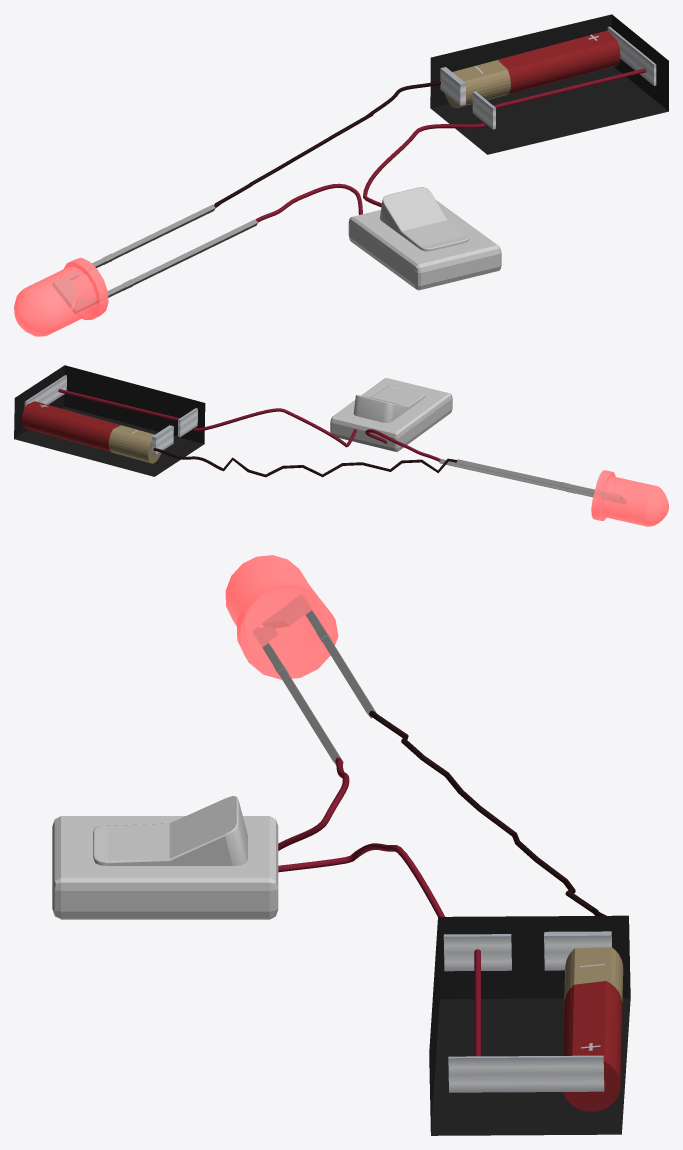
File: circuitWITHSWITCH(brightness).glb
3 renders of one model, top to bottom at view 1: azimuth 30°, elevation 25°; view 2: azimuth 150°, elevation 25°; view 3: azimuth 270°, elevation 25°, orthographic. The views are drawn at different scales.
Visible parts, largest first — view 1: BézierCurve.008; view 2: BézierCurve.008; view 3: BézierCurve.008.
Boxes of the visible parts, x1=… form: BézierCurve.008: x1=14, y1=14, x2=668, y2=336; BézierCurve.008: x1=14, y1=365, x2=668, y2=526; BézierCurve.008: x1=52, y1=555, x2=630, y2=1135.
Size of the model in its own units: 31 by 3.07 by 13.77.
11 materials, 1 textured.
